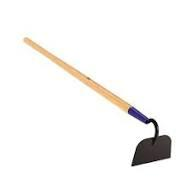HOUE: (22, 28, 183, 170)
